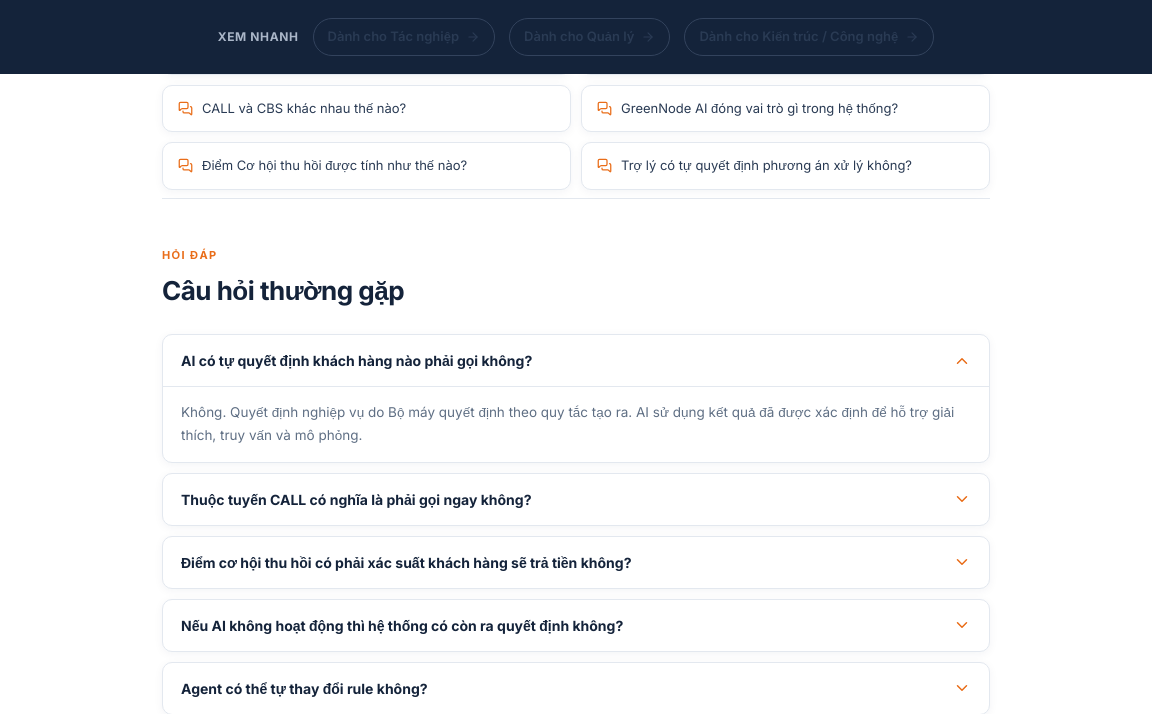
Test case: TASK-011F interactive behaviour › toggles the FAQ via the keyboard-accessible button
(page scrolled)
What coordinates should you click on to do the following:
click the 1st button with class "so-faq-toggle"
I would click on:
 (357, 361)
Its box is 163,335 -> 989,386.
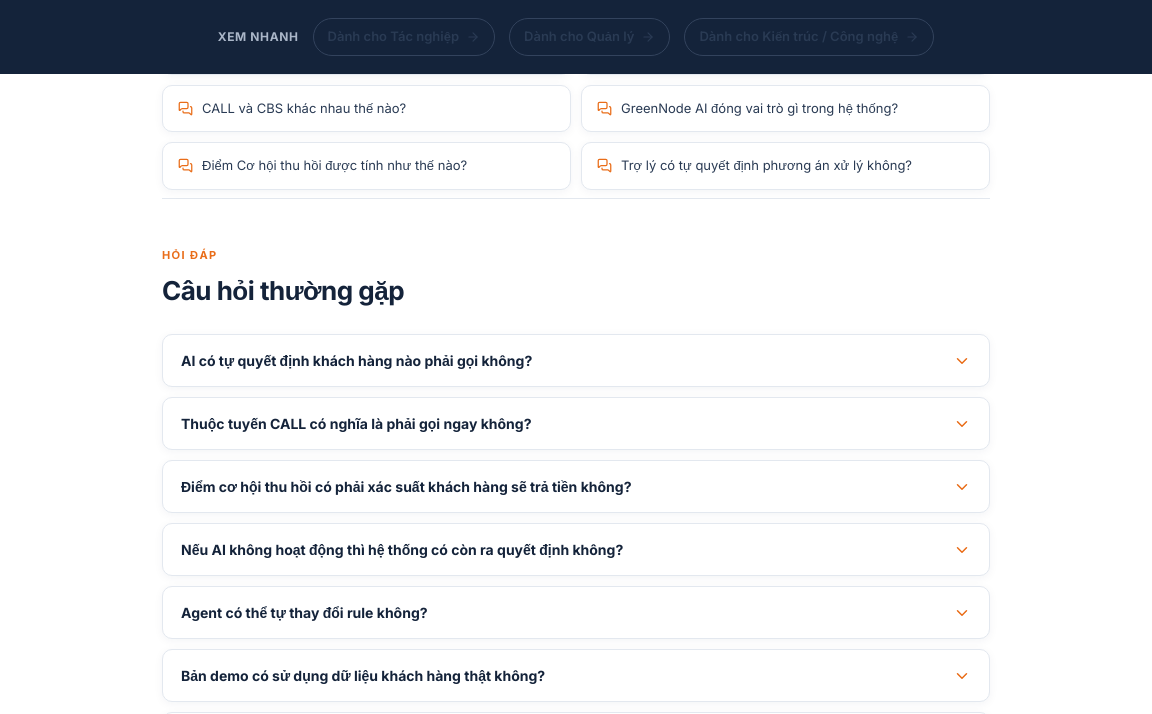
Result: the button with class "so-faq-toggle" is collapsed
What coordinates should you click on to do the following:
click the 1st button with class "so-faq-toggle"
I would click on:
 (357, 361)
Its box is 163,335 -> 989,386.
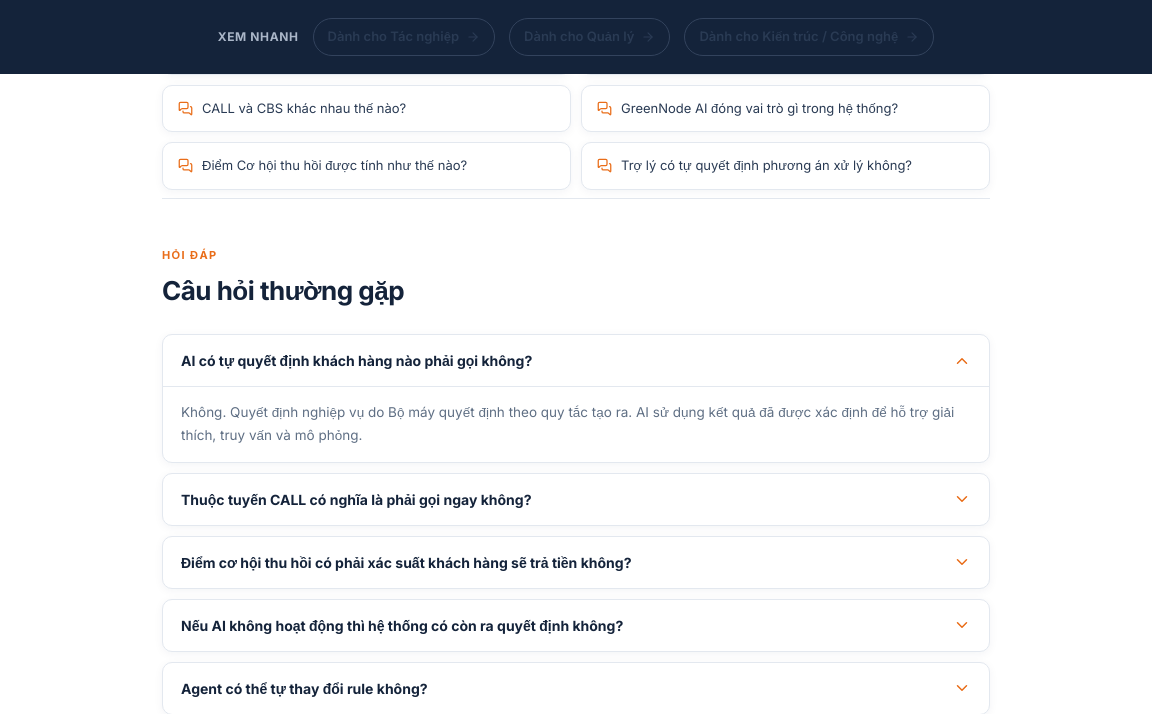
Result: the button with class "so-faq-toggle" is expanded at 163,335 -> 989,386
